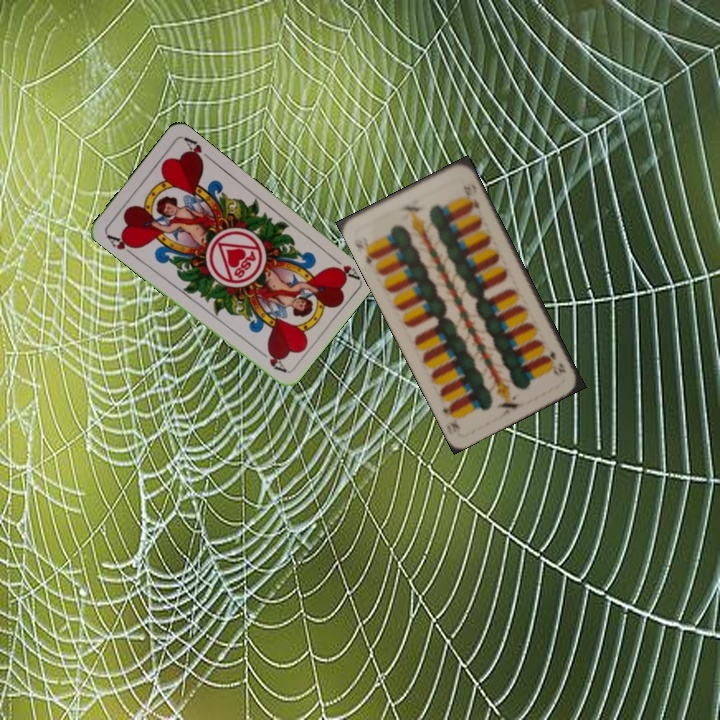E10: (350, 233, 380, 267), (543, 343, 568, 379)
HA: (326, 251, 362, 282), (102, 230, 140, 259)
